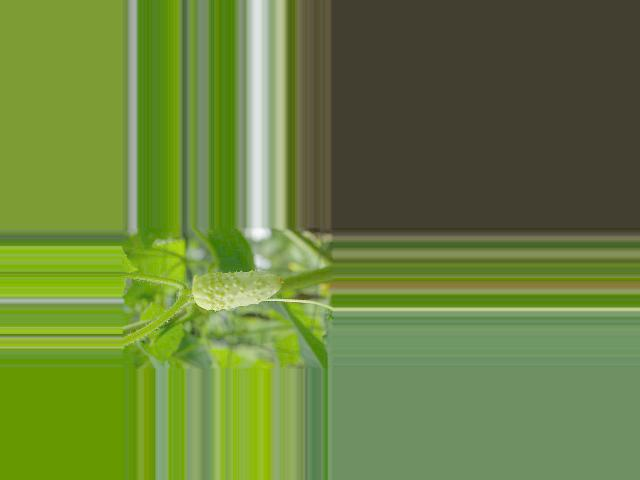cucumber: (191, 271, 284, 311)
